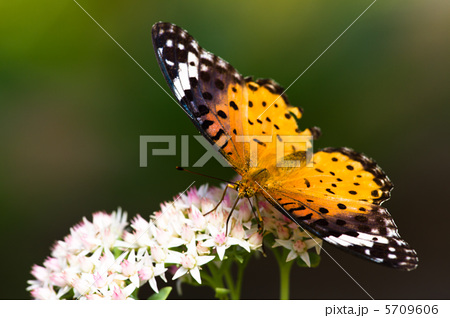Argyreus hyperbius: (149, 13, 426, 270)
butterfly: (151, 15, 428, 272)
